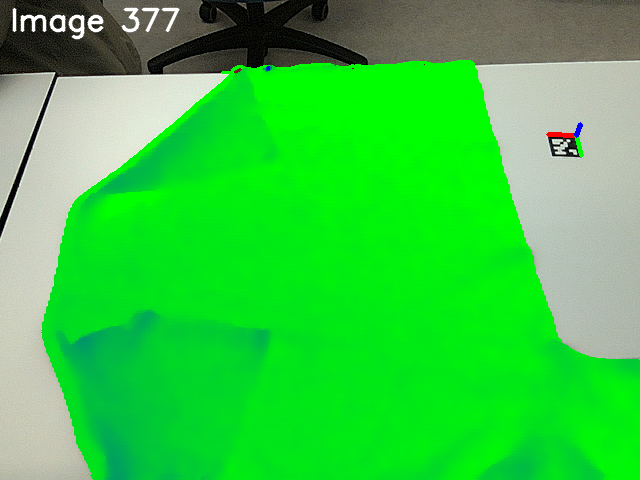V: (219, 309, 283, 376), (229, 129, 285, 172)
